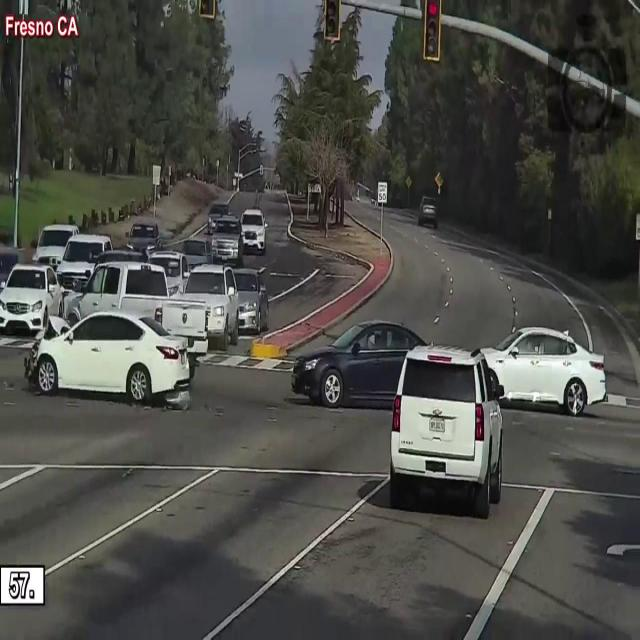accident: (27, 310, 205, 416)
non_accident: (289, 299, 611, 532), (0, 203, 284, 352)
